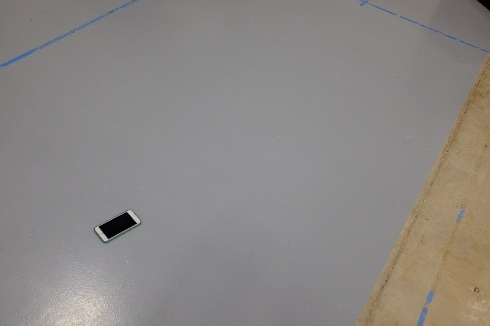phone: (95, 208, 144, 240)
